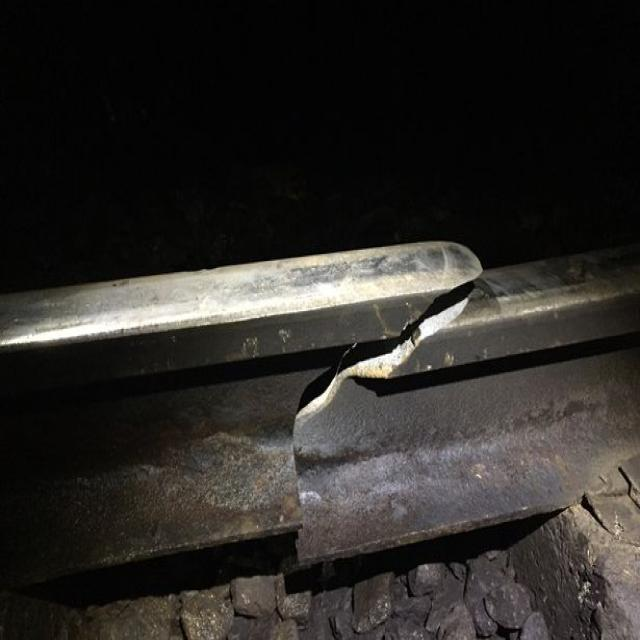fault: (274, 235, 491, 578)
